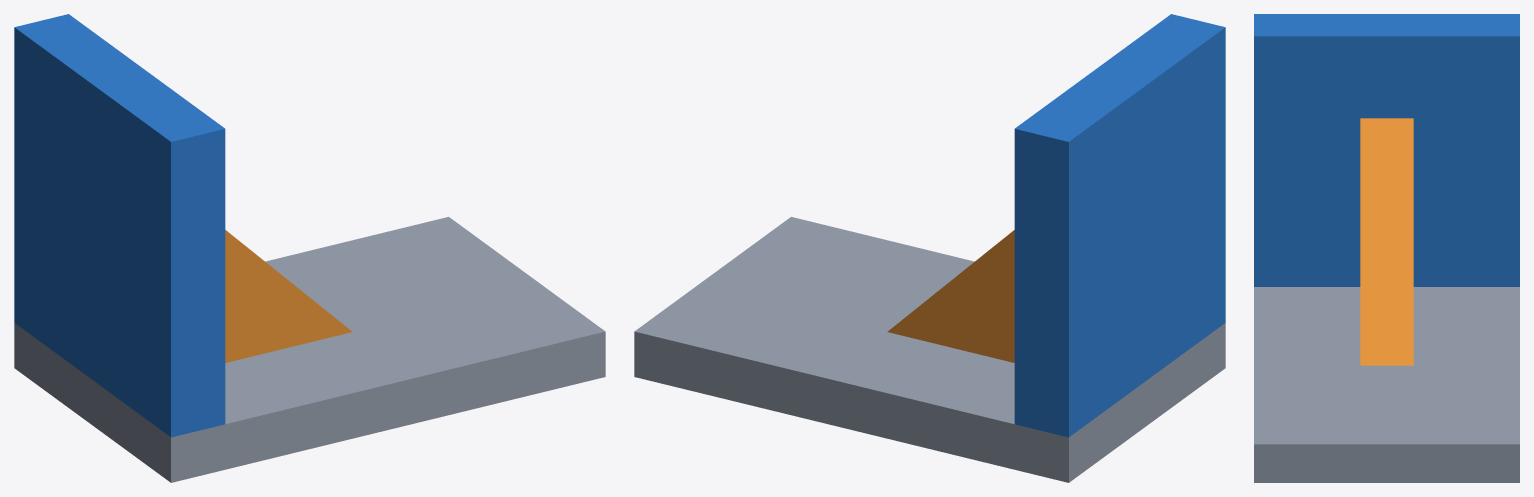
File: bracket.fbx
The picture shows the model from 3 angles, left to right: view 1: azimuth 30°, elevation 25°; view 2: azimuth 150°, elevation 25°; view 3: azimuth 270°, elevation 25°; orthographic projection. The views are drawn at different scales.
Visible parts, largest first — view 1: Upright, Base plate, Rib; view 2: Upright, Base plate, Rib; view 3: Upright, Base plate, Rib.
Part boxes in pixels (x1,y1,x2,y2): Upright: (14,14,225,437); Base plate: (14,217,605,482); Rib: (225,230,352,362); Upright: (1014,14,1225,437); Base plate: (634,217,1225,482); Rib: (887,230,1014,362); Upright: (1254,14,1519,286); Base plate: (1254,287,1519,482); Rib: (1360,118,1413,365).
Size of the model in its own units: 80 by 60 by 50.
